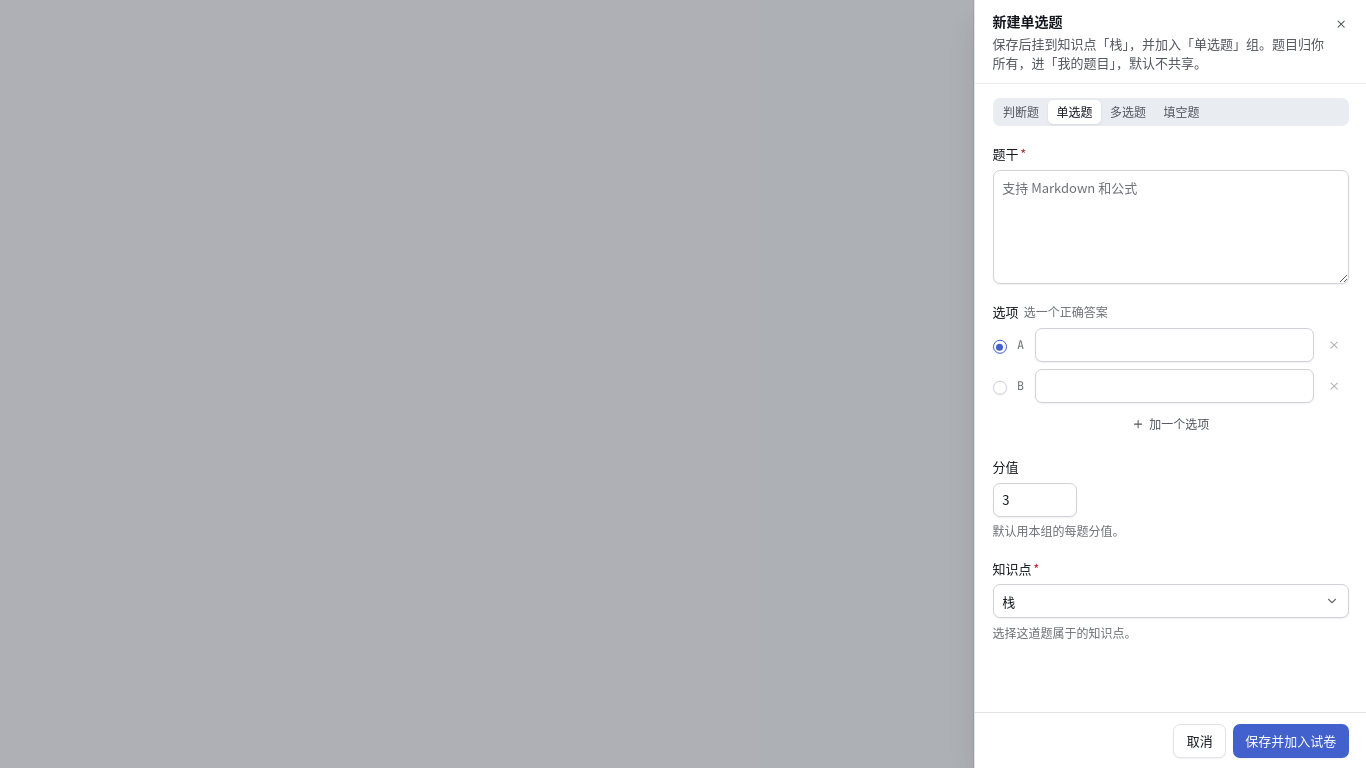
objective quick-create sheet › rejects an option that is only spaces
Clear the field named "选项 A" at [1174, 345], box top-left (1034, 328), bottom-right (1314, 362)
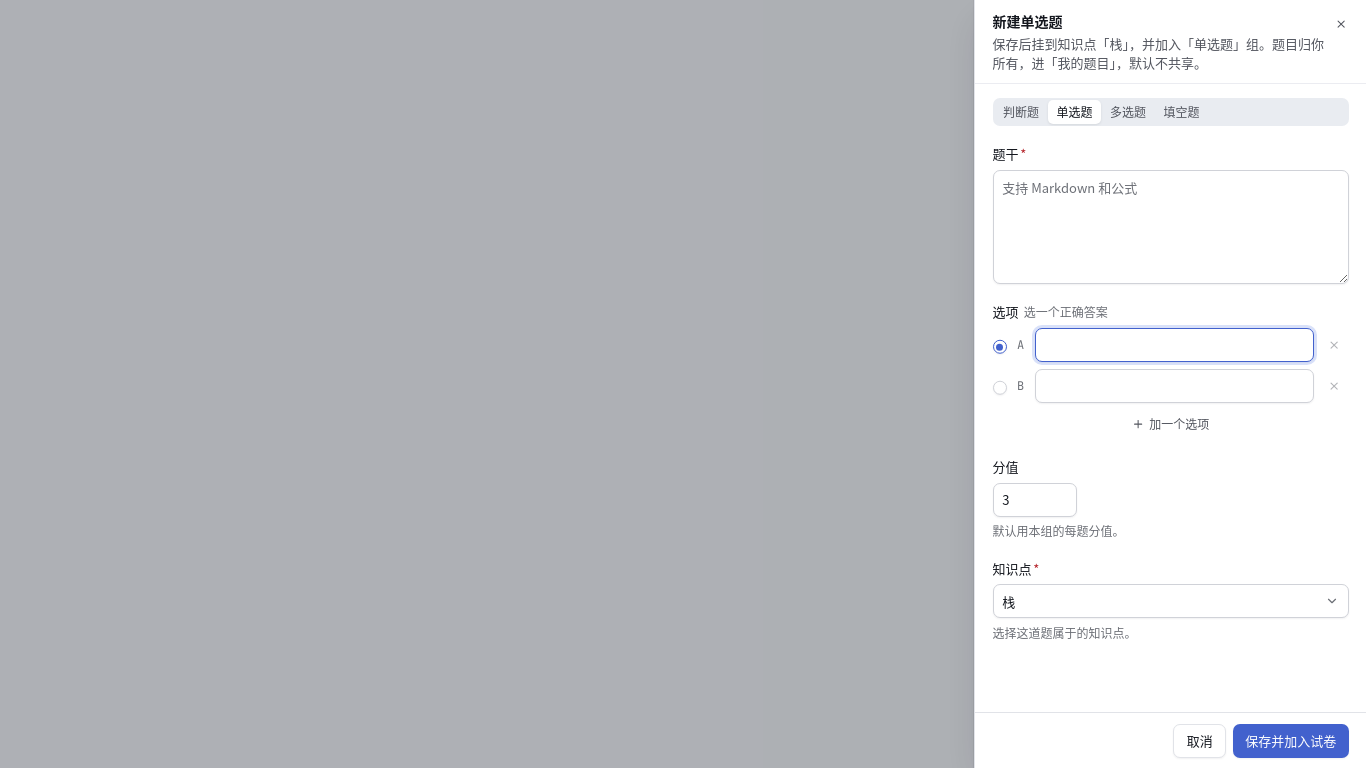
Type keys "   "
Clear the field named "选项 B" at [1174, 386], box top-left (1034, 369), bottom-right (1314, 403)
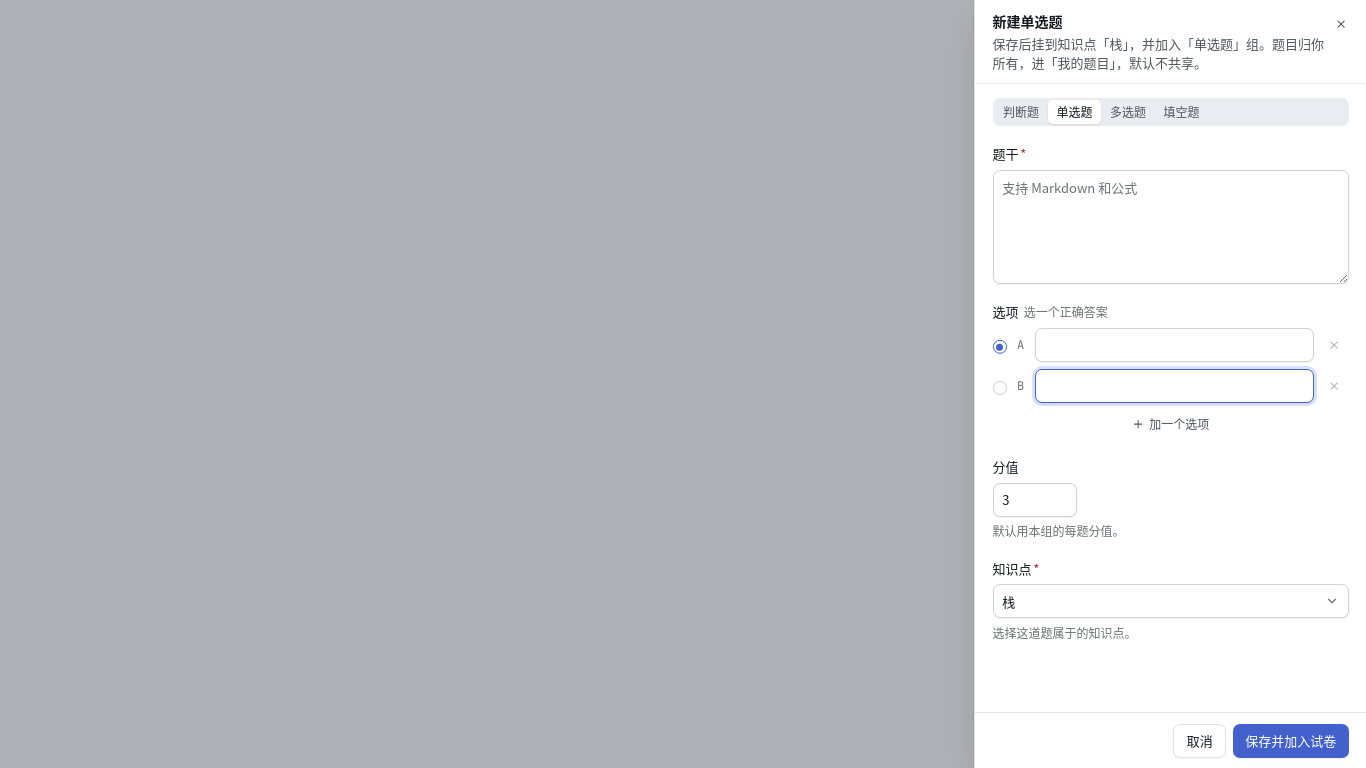
Type keys "乙"
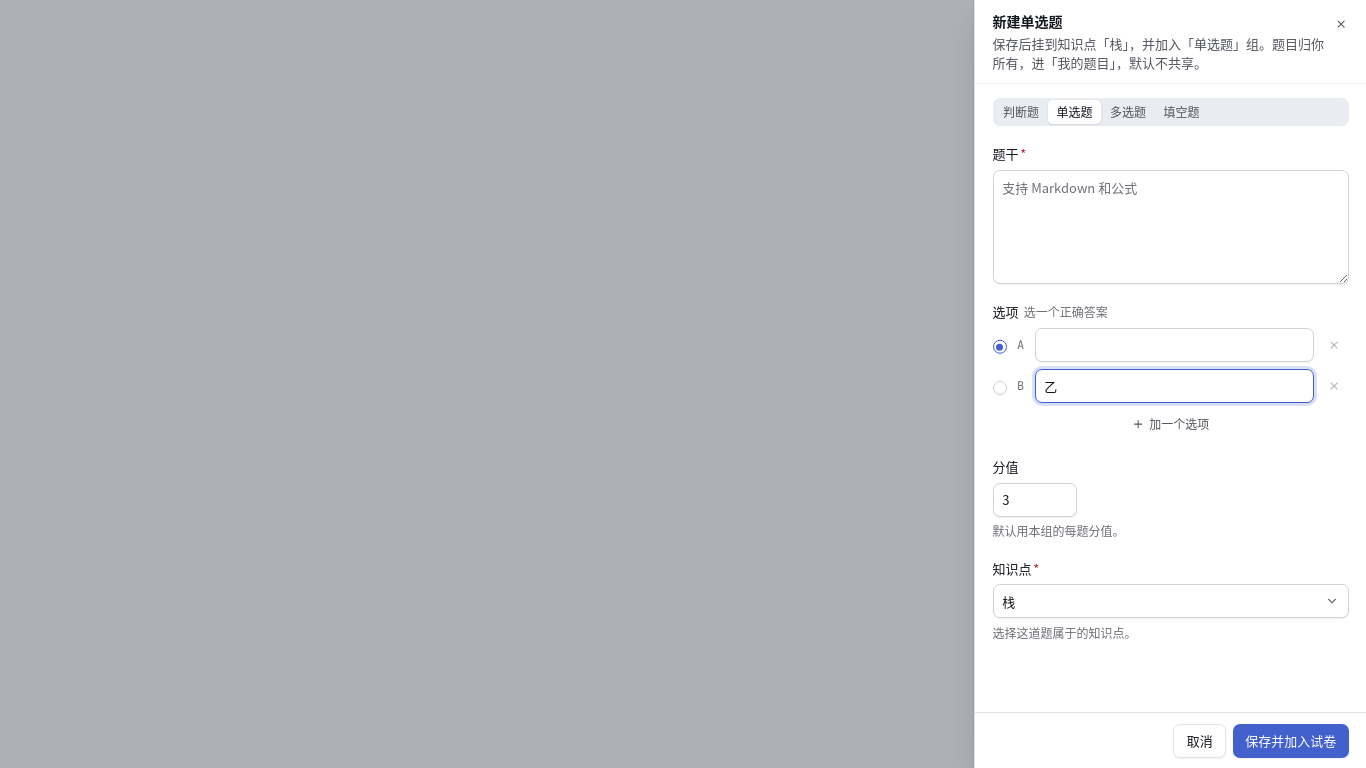
Expected: the field named "选项 B" holds "乙", top-left (1034, 369), bottom-right (1314, 403)
Click the radio button named "B 是正确答案" at [1000, 386], box top-left (992, 379), bottom-right (1006, 393)
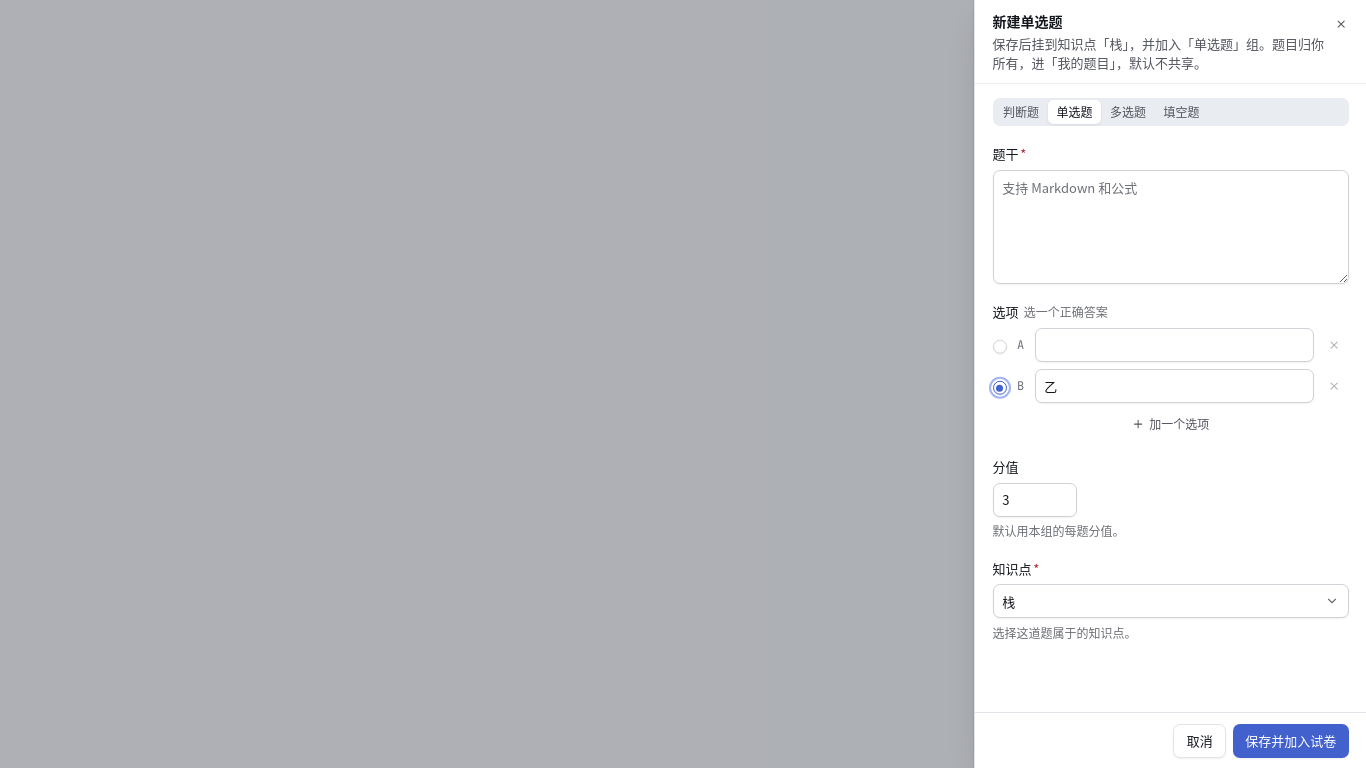
Clear the text box labelled "题干*" at [1170, 227], box top-left (992, 170), bottom-right (1348, 284)
Type keys "空格选项"
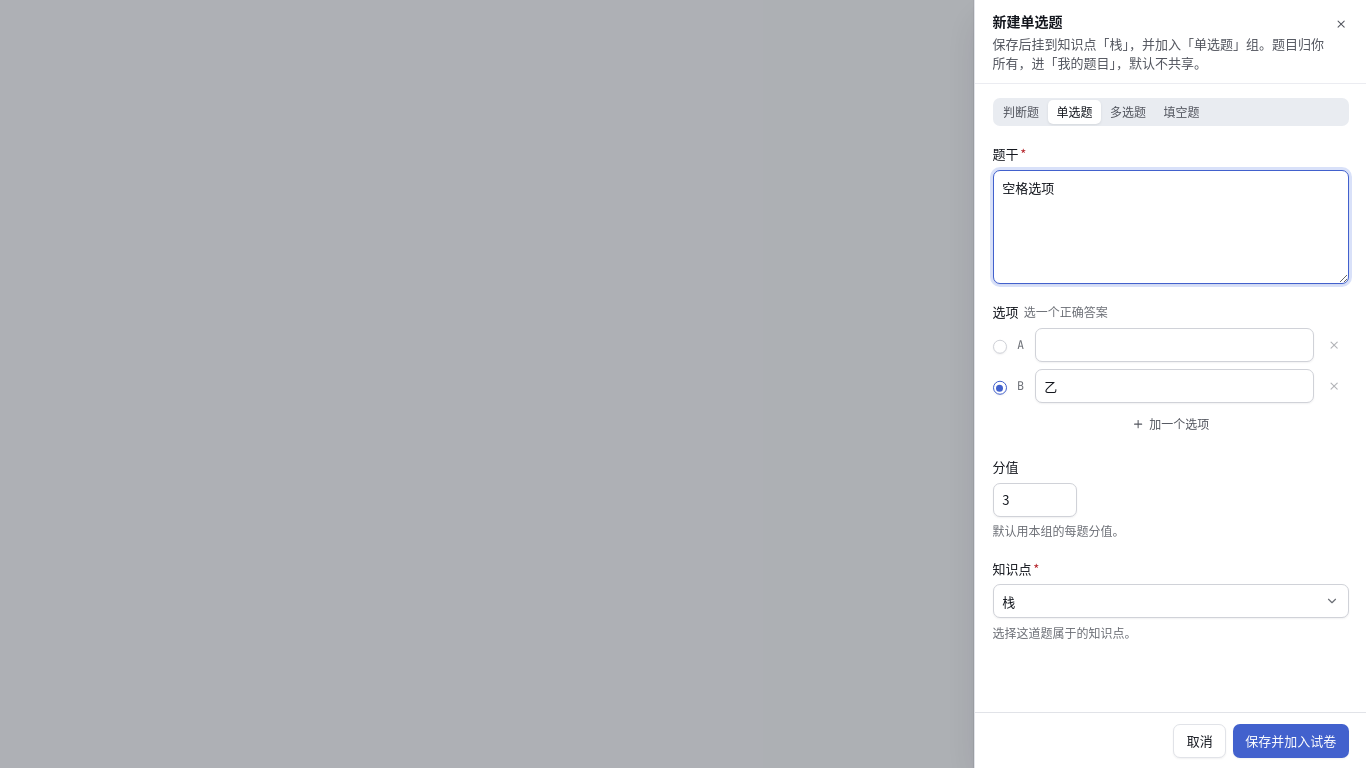
Click the button "保存并加入试卷" at [1291, 740], box top-left (1233, 724), bottom-right (1348, 758)
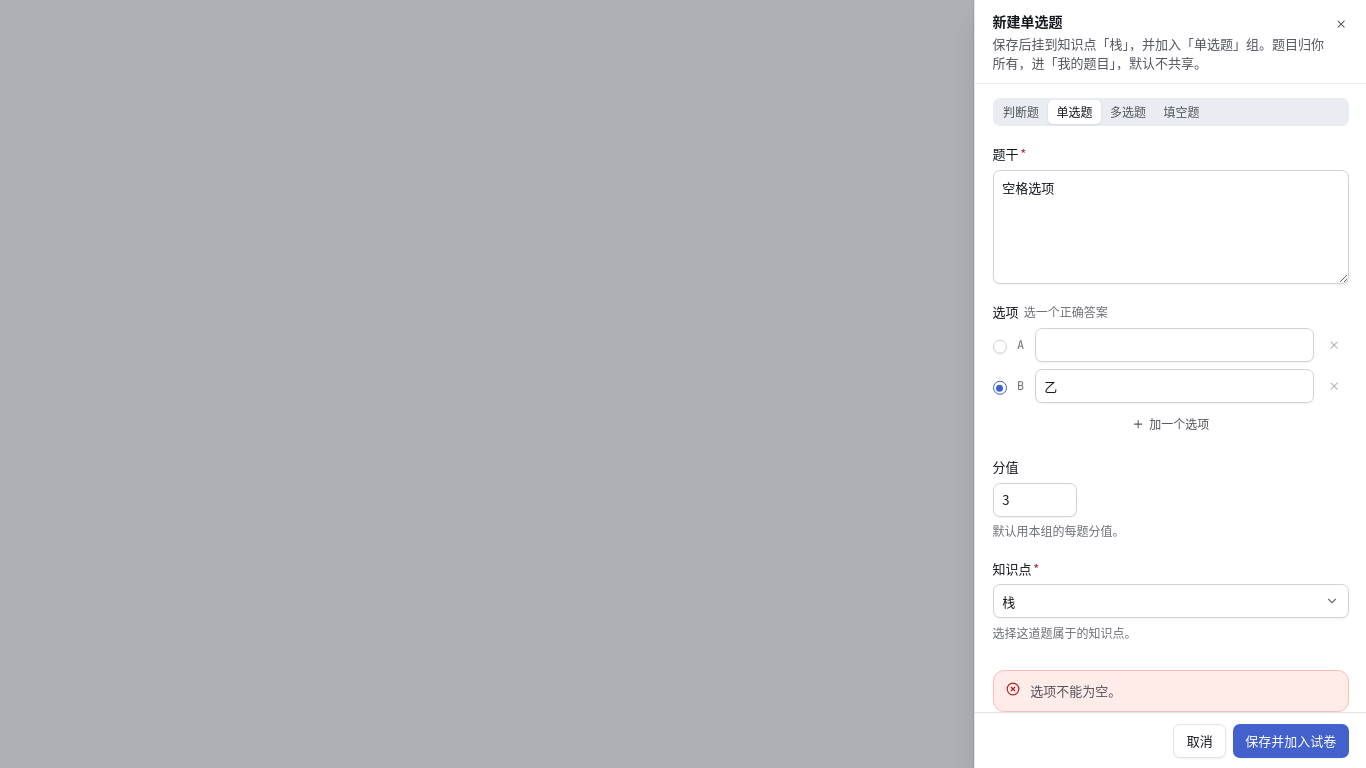
Expected: the message "选项不能为空。" is shown, top-left (992, 670), bottom-right (1348, 712)
